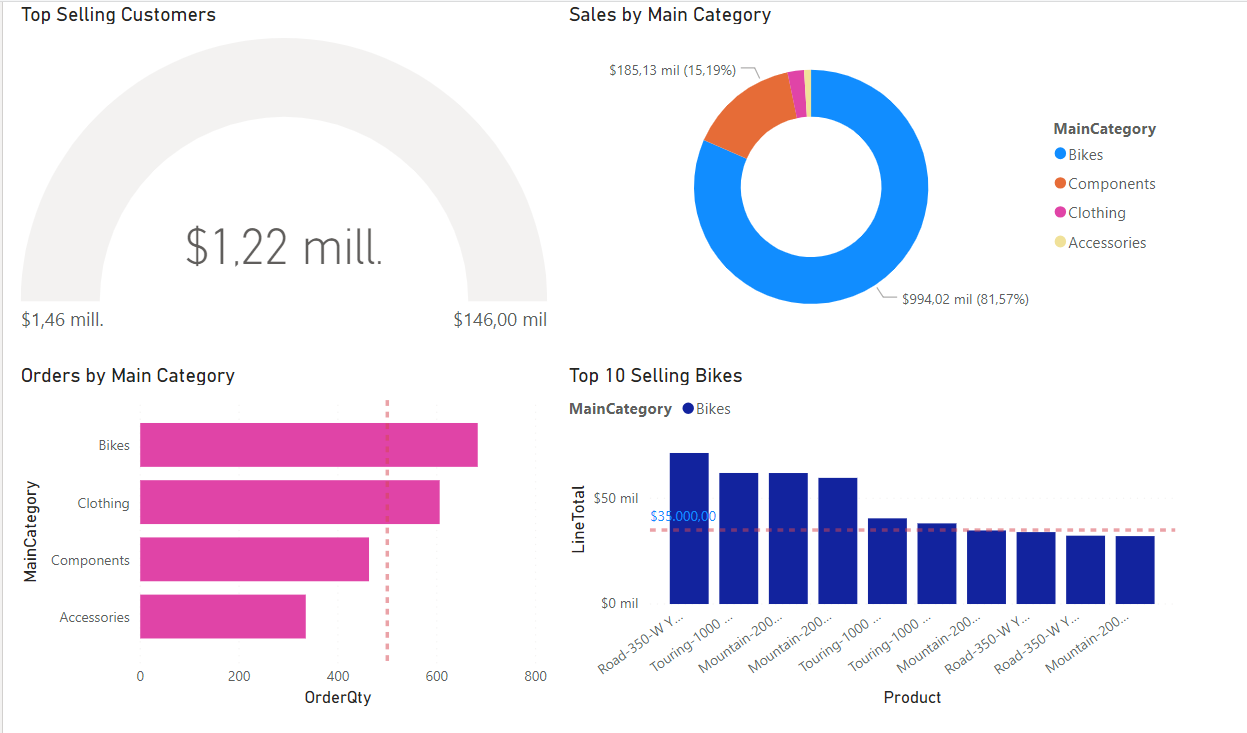

The page's visual inventory and layout, read from the dashboard file:
{"tool":"powerbi","page":{"name":"Página 1","canvas":[1280,720],"ordinal":0},"visuals":[{"type":"gauge","title":"Top Selling Customers","fields":{"Y":["Sum(Sales.LineTotal)"],"MinValue":["Sales.TargetSales"]},"box":[10.1,0,463.6,300.7],"z":0},{"type":"barChart","title":"Orders by Main Category","fields":{"Category":["Sales.MainCategory"],"Y":["Sum(Sales.OrderQty)"]},"box":[10,311,464,301],"z":1000},{"type":"donutChart","title":"Sales by Main Category","fields":{"Category":["Sales.MainCategory"],"Y":["Sum(Sales.LineTotal)"]},"box":[483.2,0,532.8,300.1],"z":2000},{"type":"columnChart","title":"Top 10 Selling Bikes","fields":{"Category":["Sales.Product"],"Y":["Sum(Sales.LineTotal)"],"Series":["Sales.MainCategory"]},"box":[483,311,533,301],"z":3000}]}

Visuals, with their boxes on the page's 1280x720 design canvas (x1, y1, x2, y2). These are canvas units, not pixel positions in the 1247x733 screenshot, which may show the page scaled, cropped or inside an application window:
"Top Selling Customers" gauge: <region>10, 0, 474, 301</region>
"Orders by Main Category" barChart: <region>10, 311, 474, 612</region>
"Sales by Main Category" donutChart: <region>483, 0, 1016, 300</region>
"Top 10 Selling Bikes" columnChart: <region>483, 311, 1016, 612</region>
